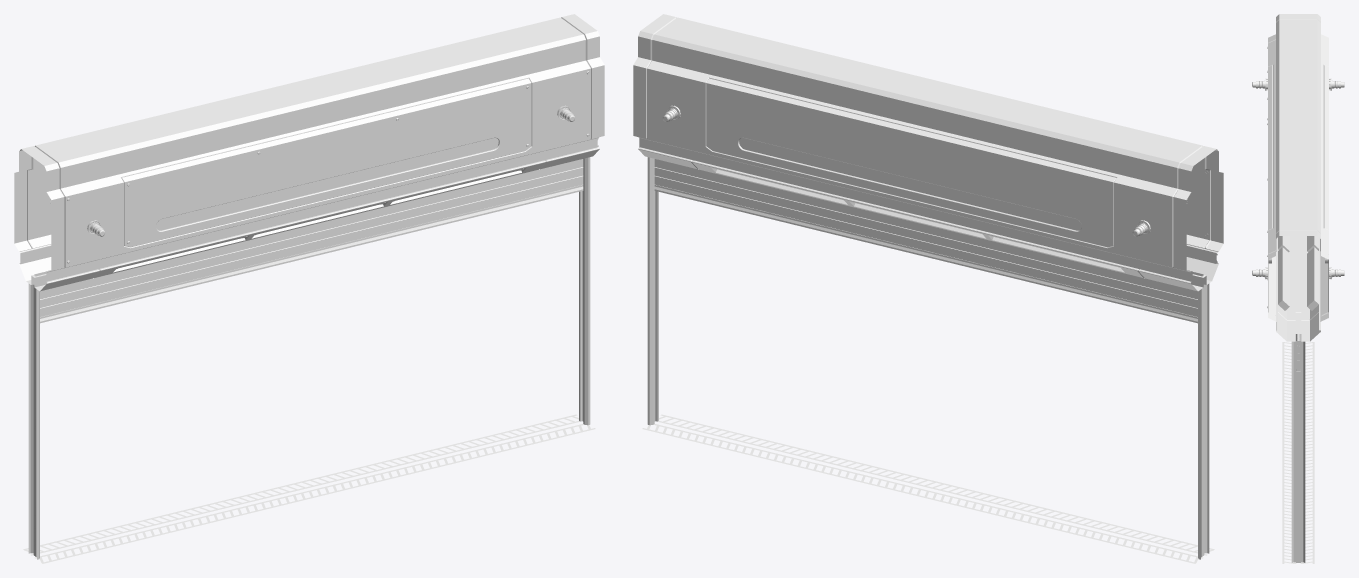
The model's file is KB3D_FTW_PropGarageDoor_A_grp.glb.
3 views of the same model, side by side, from view 1: azimuth 30°, elevation 25°; view 2: azimuth 150°, elevation 25°; view 3: azimuth 270°, elevation 25° (orthographic). The views are drawn at different scales.
Parts seen in each view (by area): view 1: KB3D_FTW_PropGarageDoor_A_Frame; view 2: KB3D_FTW_PropGarageDoor_A_Frame; view 3: KB3D_FTW_PropGarageDoor_A_Frame.
Part boxes in pixels (box(x1,y1,x2,y2)): KB3D_FTW_PropGarageDoor_A_Frame: box(14, 14, 604, 563); KB3D_FTW_PropGarageDoor_A_Frame: box(633, 14, 1223, 563); KB3D_FTW_PropGarageDoor_A_Frame: box(1252, 14, 1344, 563).
Bounding box in the file's own units: 14 × 9.65 × 2.46.
11 materials, 2 textured.
